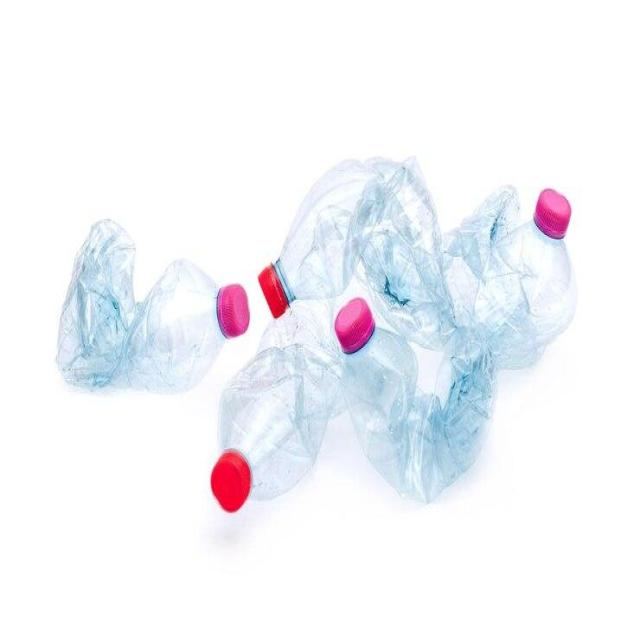plastic bottle: (281, 157, 458, 358), (53, 217, 222, 393), (348, 327, 498, 504), (438, 183, 578, 370), (220, 299, 348, 499)
plastic bottle cap: (212, 453, 251, 511), (334, 296, 373, 351), (256, 262, 289, 322), (214, 283, 250, 337), (534, 187, 571, 237)
